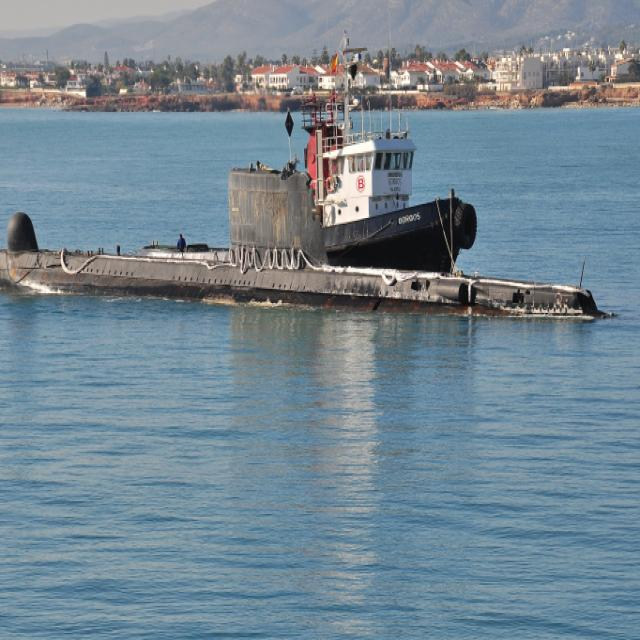submarine: (1, 165, 608, 321)
